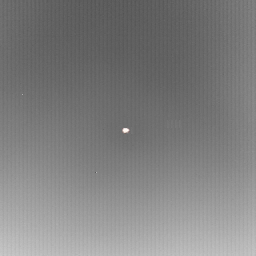Target: (120, 126, 130, 134)
